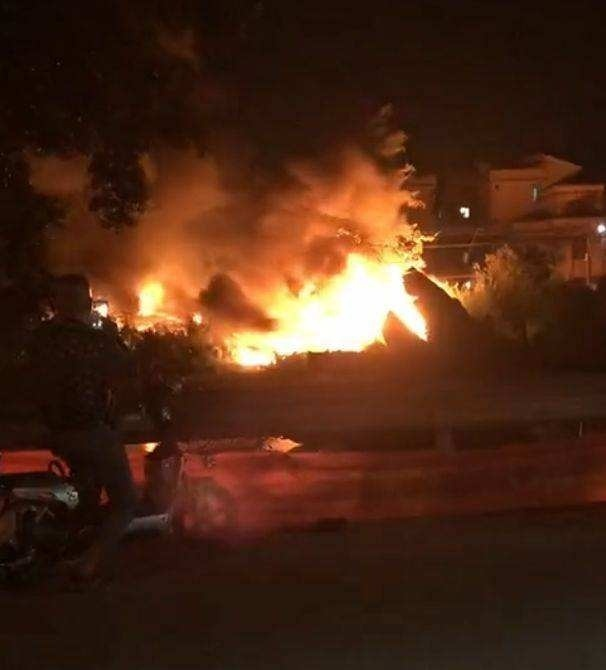fire: (218, 222, 440, 361)
